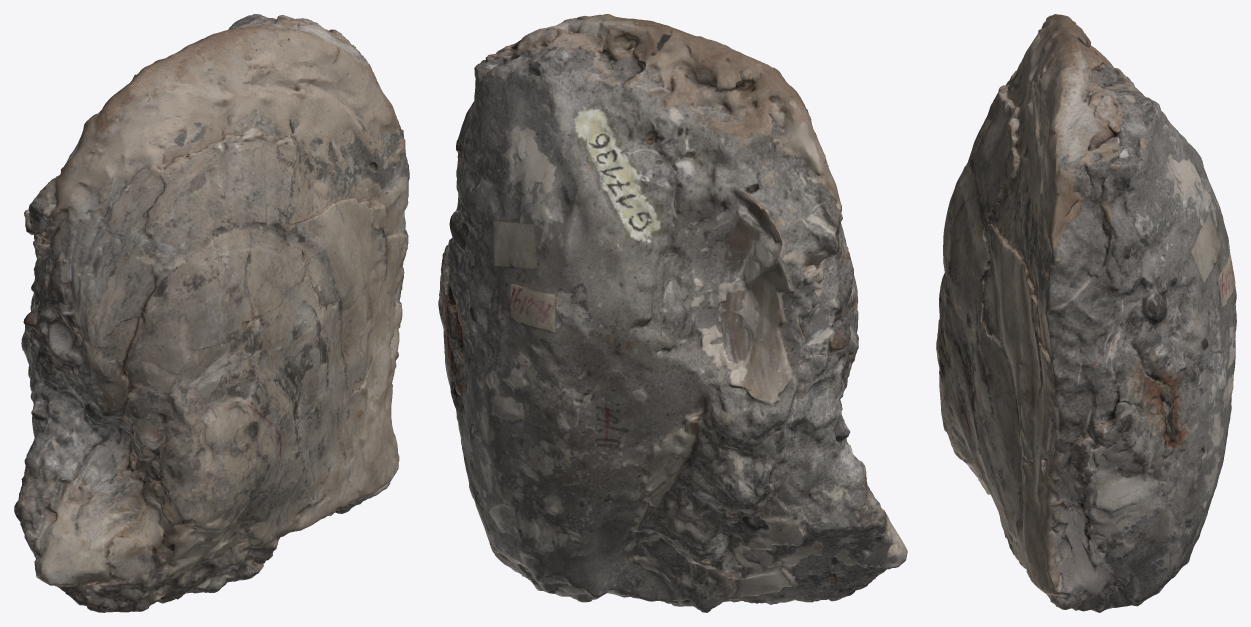
Rendered from EWS0016363.glb.
3 renders of one model, left to right at view 1: azimuth 30°, elevation 25°; view 2: azimuth 150°, elevation 25°; view 3: azimuth 270°, elevation 25°, orthographic. The views are drawn at different scales.
Visible parts, largest first — view 1: Input; view 2: Input; view 3: Input.
Boxes of the visible parts, <box> form: Input: <box>14,14,409,612</box>; Input: <box>438,14,907,612</box>; Input: <box>936,14,1236,612</box>.
Size of the model in its own units: 0.0919 by 0.1217 by 0.061.
1 material, 1 textured.
